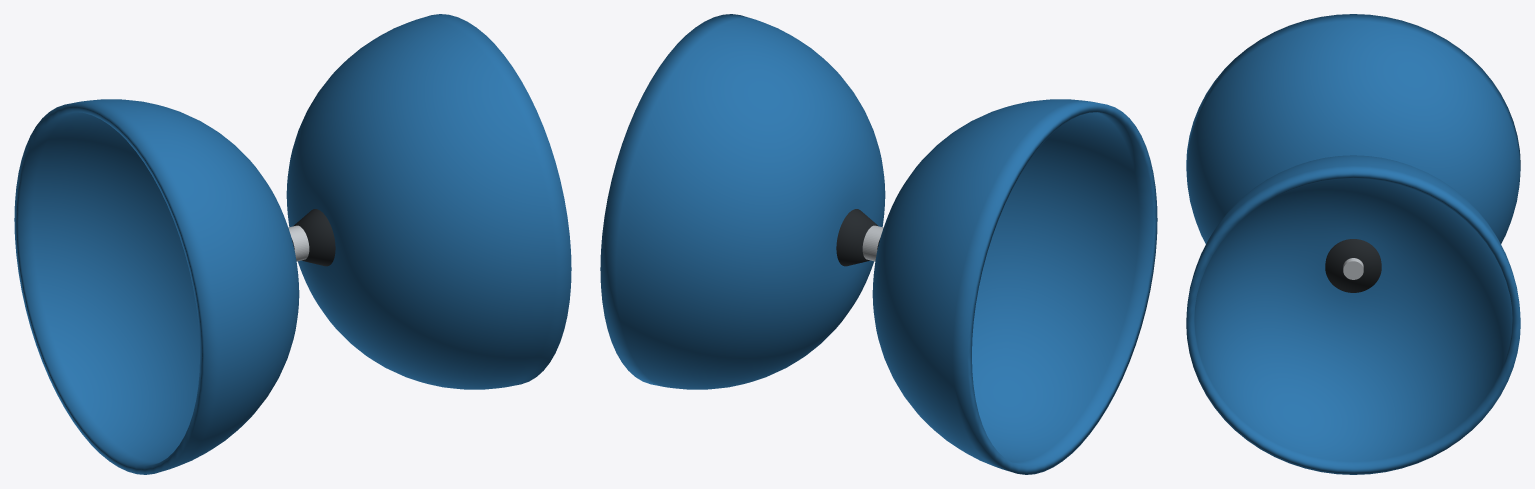
The model's file is full.glb.
3 renders of one model, left to right at view 1: azimuth 30°, elevation 25°; view 2: azimuth 150°, elevation 25°; view 3: azimuth 270°, elevation 25°, orthographic. The views are drawn at different scales.
Visible parts, largest first — view 1: Left hollow outward cup, Right hollow outward cup, Right conical hub; view 2: Left hollow outward cup, Right hollow outward cup, Right conical hub; view 3: Right hollow outward cup, Left hollow outward cup, Right conical hub, Continuous central axle.
Boxes of the visible parts, bbox=[...] form: Left hollow outward cup: bbox=[14, 99, 299, 474]; Right hollow outward cup: bbox=[286, 14, 571, 389]; Right conical hub: bbox=[293, 209, 335, 266]; Left hollow outward cup: bbox=[872, 99, 1157, 474]; Right hollow outward cup: bbox=[600, 14, 885, 389]; Right conical hub: bbox=[836, 209, 878, 266]; Right hollow outward cup: bbox=[1186, 155, 1520, 474]; Left hollow outward cup: bbox=[1186, 14, 1520, 243]; Right conical hub: bbox=[1325, 239, 1381, 292]; Continuous central axle: bbox=[1343, 258, 1363, 279].
Bounding box in the file's own units: 0.145 × 0.13 × 0.13.
